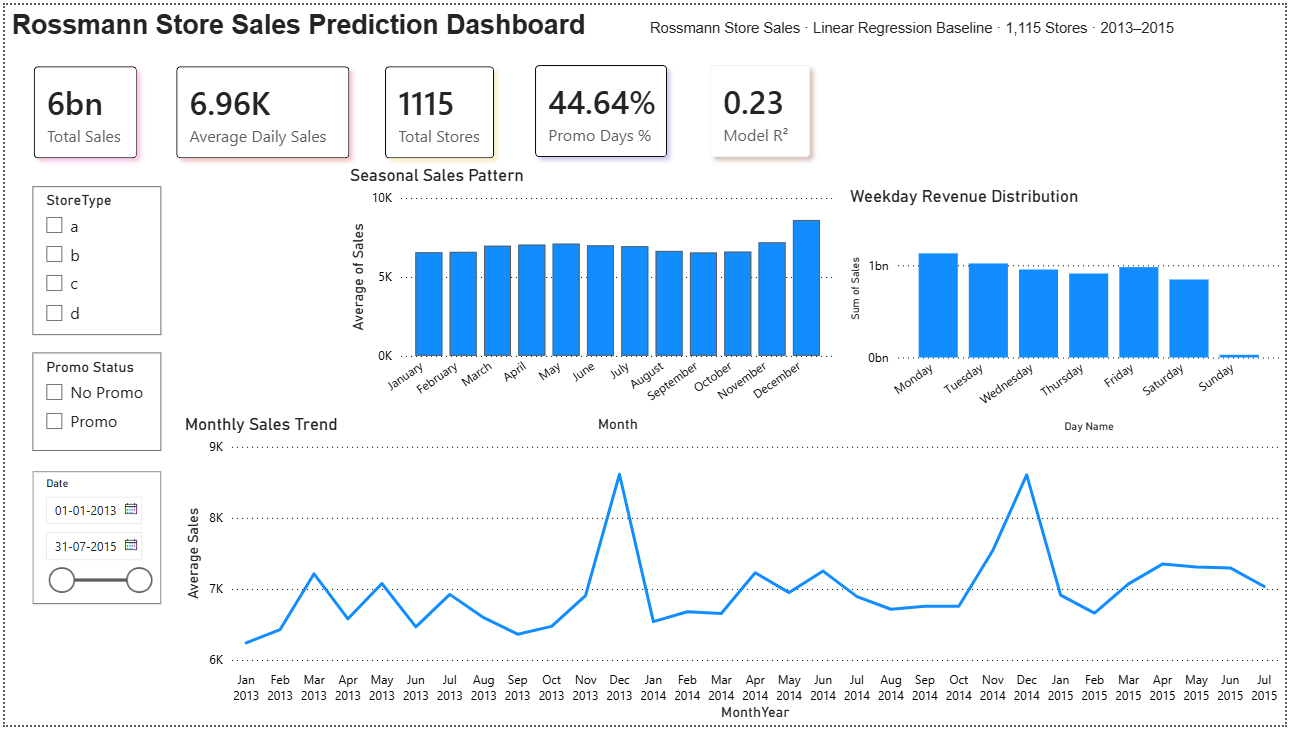

What the dashboard file says about the page in this screenshot:
{"tool":"powerbi","page":{"name":"Page 1","canvas":[1280,720],"ordinal":0},"visuals":[{"type":"cardVisual","fields":{"Data":["train.Average Daily Sales"]},"box":[142.9,32.9,231.4,150],"z":0},{"type":"cardVisual","fields":{"Data":["train.Promo Days %"]},"box":[501.4,31.4,190,150],"z":1000},{"type":"cardVisual","fields":{"Data":["train.Total Sales"]},"box":[0,32.9,161.4,150],"z":2000},{"type":"cardVisual","fields":{"Data":["train.Total Stores"]},"box":[351.4,32.9,167.1,150],"z":3000},{"type":"lineChart","title":"Monthly Sales Trend","fields":{"Y":["Avg(train.Sales)"],"Category":["Calender.MonthYear"]},"box":[175,408.8,1105,311.2],"z":4000},{"type":"columnChart","title":"Seasonal Sales Pattern","fields":{"Category":["Calender.Month"],"Y":["Avg(train.Sales)"]},"box":[340,160,494.3,272.9],"z":5000},{"type":"slicer","fields":{"Values":["store.StoreType"]},"box":[27.1,181.4,128.6,148.6],"z":6000},{"type":"slicer","fields":{"Values":["Calender.Date"]},"box":[27.1,465.7,128.6,132.9],"z":7000},{"type":"slicer","fields":{"Values":["train.Promo Status"]},"box":[27.1,347.1,128.6,98.6],"z":8000},{"type":"clusteredColumnChart","title":"Weekday Revenue Distribution","fields":{"Category":["train.Day Name"],"Y":["Sum(train.Sales)"]},"box":[840,181.2,440,251.2],"z":9000},{"type":"cardVisual","fields":{"Data":["Calender.R2 Score"]},"box":[675.7,31.4,158.6,150],"z":10000},{"type":"textbox","box":[640,8.6,552.9,44.3],"z":11000},{"type":"textbox","box":[0,0,587.1,47.1],"z":12000}]}

Visuals, with their boxes in screenshot pixels (x1, y1, x2, y2), scaled from the page's 1280x720 canvas onto the 1291x731 screenshot:
cardVisual - train.Average Daily Sales: box(144, 33, 378, 186)
cardVisual - train.Promo Days %: box(506, 32, 697, 184)
cardVisual - train.Total Sales: box(0, 33, 163, 186)
cardVisual - train.Total Stores: box(354, 33, 523, 186)
"Monthly Sales Trend" lineChart: box(177, 415, 1290, 730)
"Seasonal Sales Pattern" columnChart: box(343, 162, 841, 440)
slicer - store.StoreType: box(27, 184, 157, 335)
slicer - Calender.Date: box(27, 473, 157, 608)
slicer - train.Promo Status: box(27, 352, 157, 453)
"Weekday Revenue Distribution" clusteredColumnChart: box(847, 184, 1290, 439)
cardVisual - Calender.R2 Score: box(682, 32, 841, 184)
textbox: box(646, 9, 1203, 54)
textbox: box(0, 0, 592, 48)
